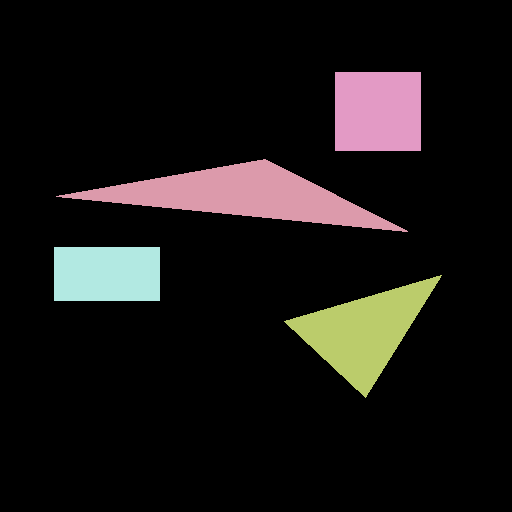rectangle: (54, 247, 159, 300)
square: (335, 72, 420, 150)
triangle: (56, 159, 407, 231), (284, 275, 441, 397)
